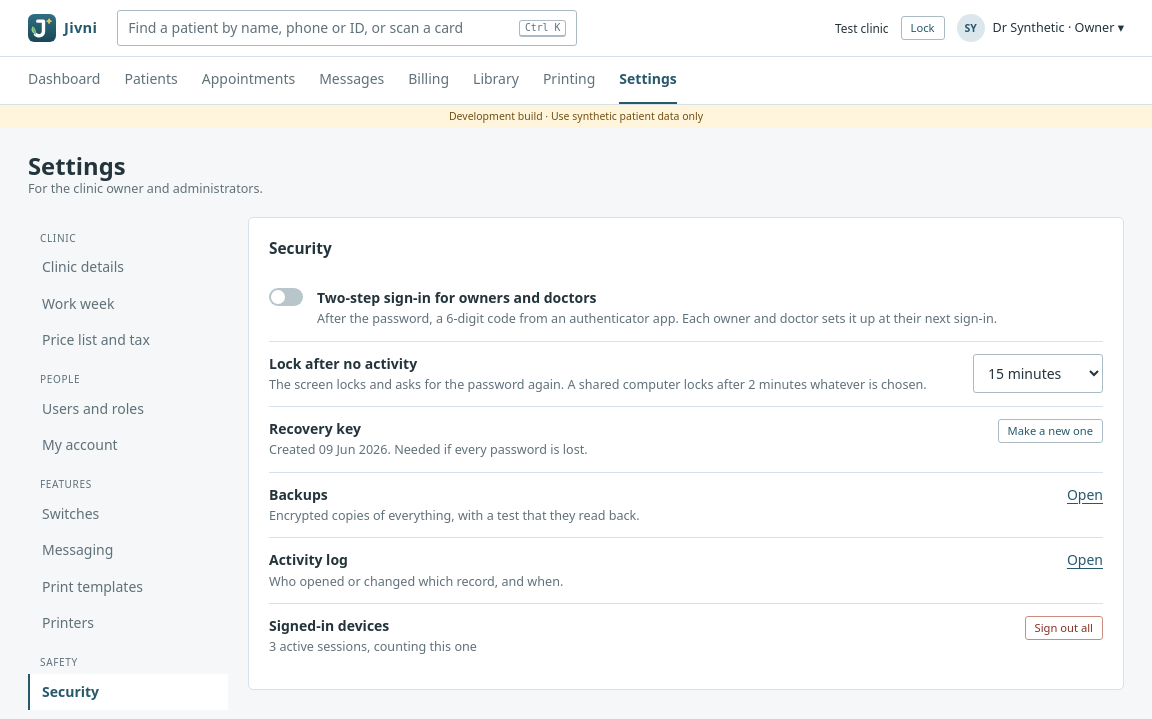
it: users, roles and security › changes the security settings and makes a new recovery key
Expected: the text "Created 09 Jun 2026. Needed if every password is lost." is shown, [269,441,588,458]
Expected: the text "3 active sessions, counting this one" is shown, [269,638,477,655]
Step 1. Click the switch named "Two-step sign-in for owners and doctors" → [286, 297], box [269,288,303,306]
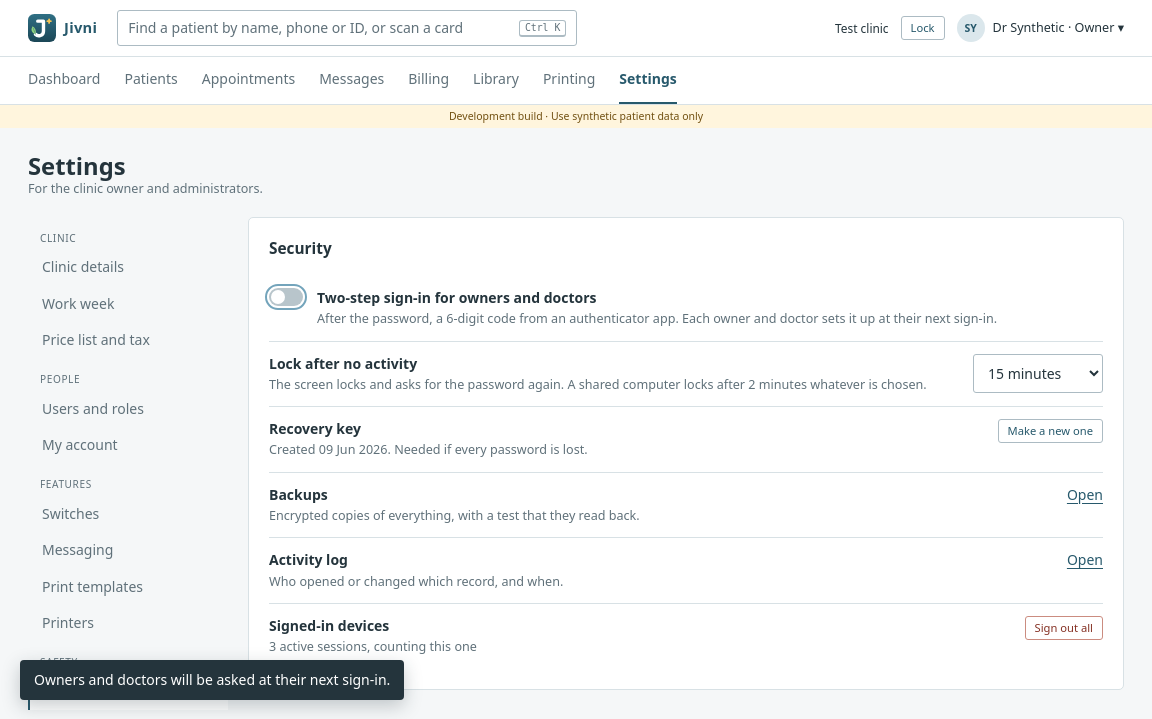
Step 2. Select "5 minutes" in the dropdown named "Lock after no activity" → [1038, 373], box [973,354,1103,392]
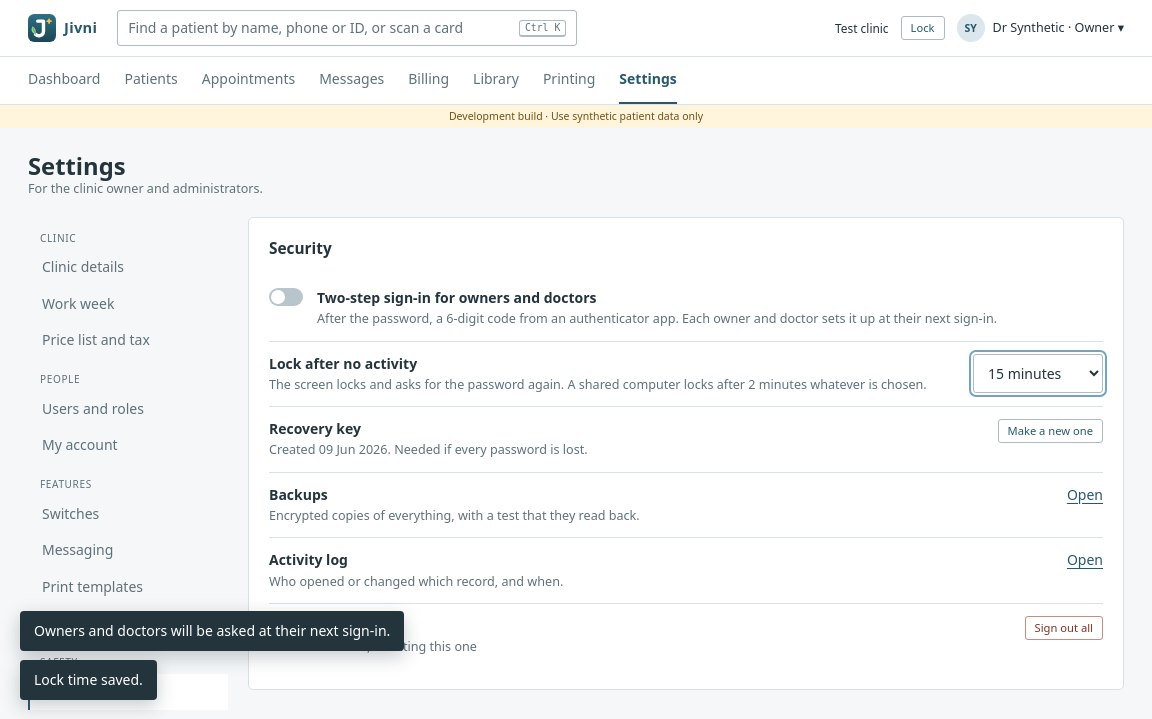
Step 3. Click the button "Make a new one" → [1050, 431], box [998,419,1103,443]
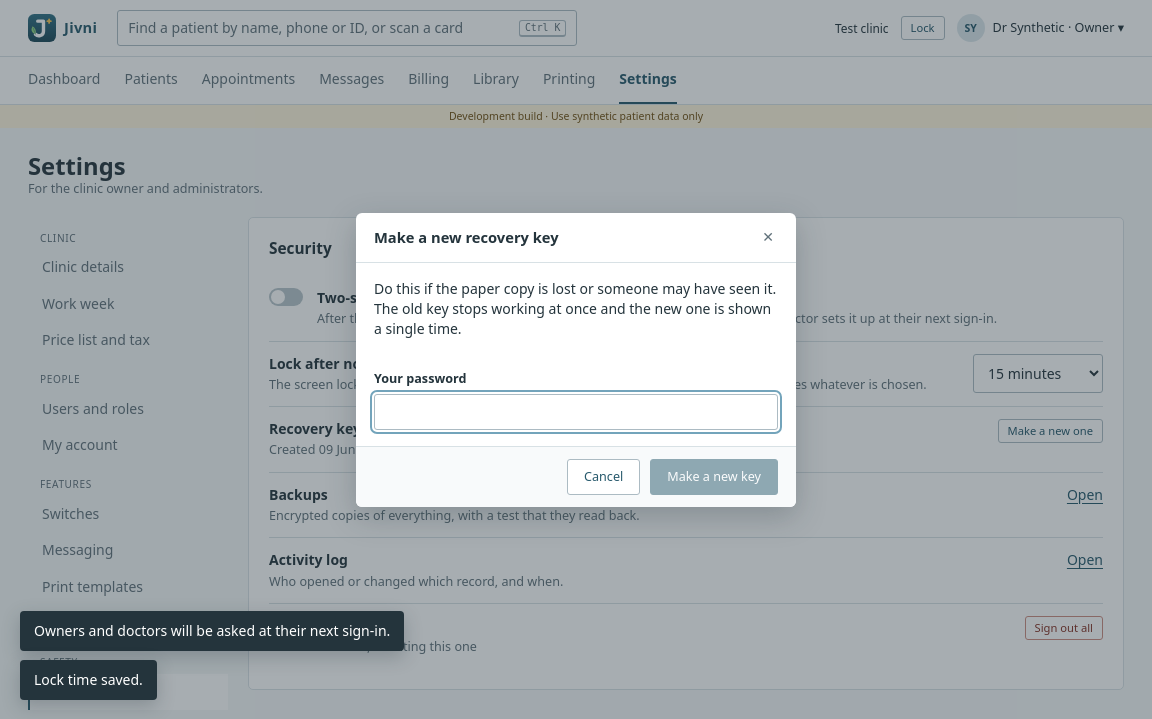
Step 4. Type "synthetic-password" into the password field labelled "Your password" → [576, 412], box [374,394,778,430]
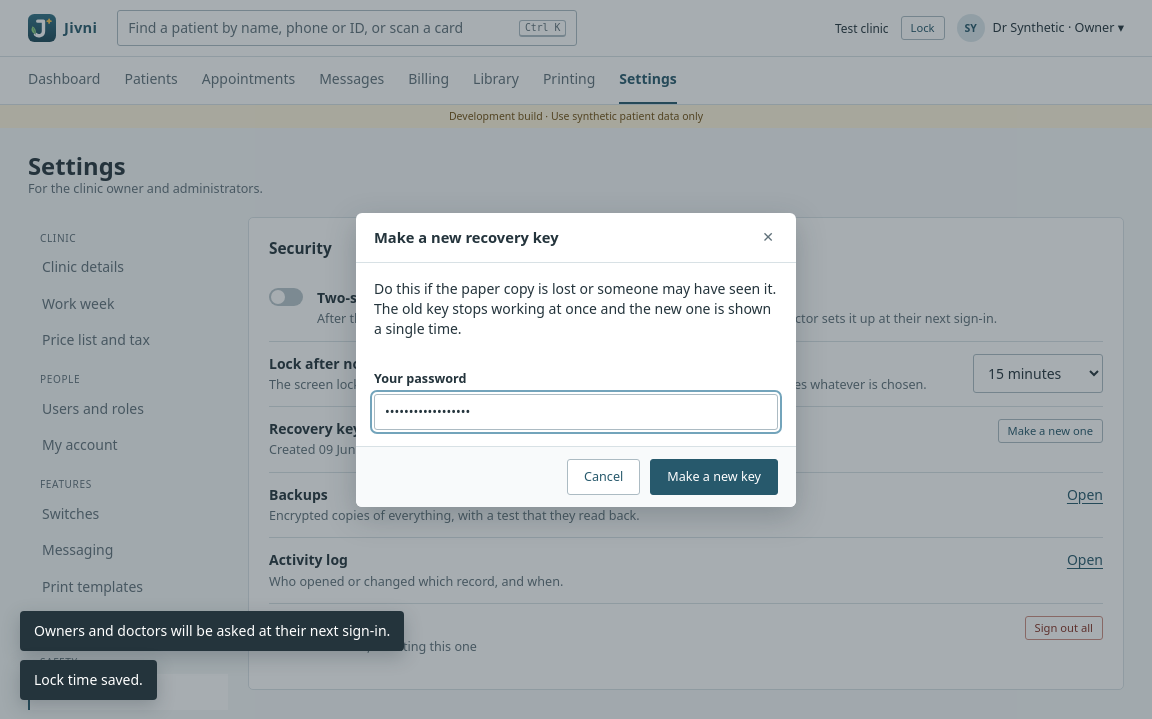
Step 5. Click the button "Make a new key" → [714, 477], box [650,459,778,496]
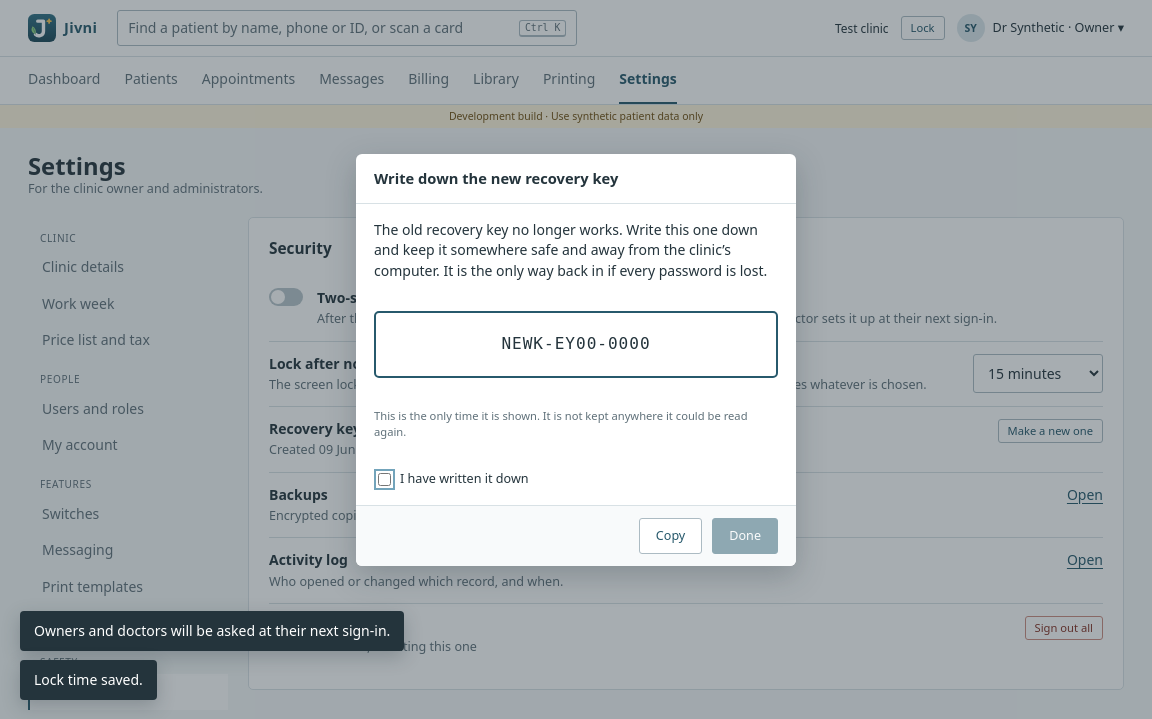
Expected: the text named "New recovery key" reads "NEWK-EY00-0000", [501,334,651,353]
